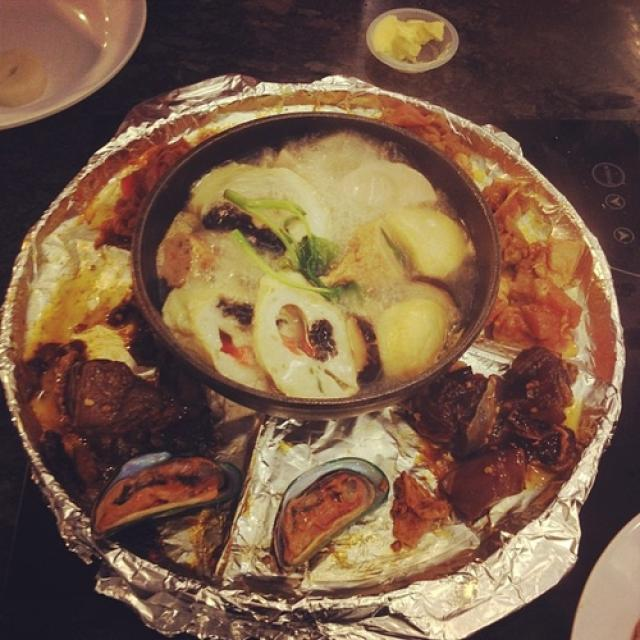汤锅炖物: (8, 85, 616, 572)
